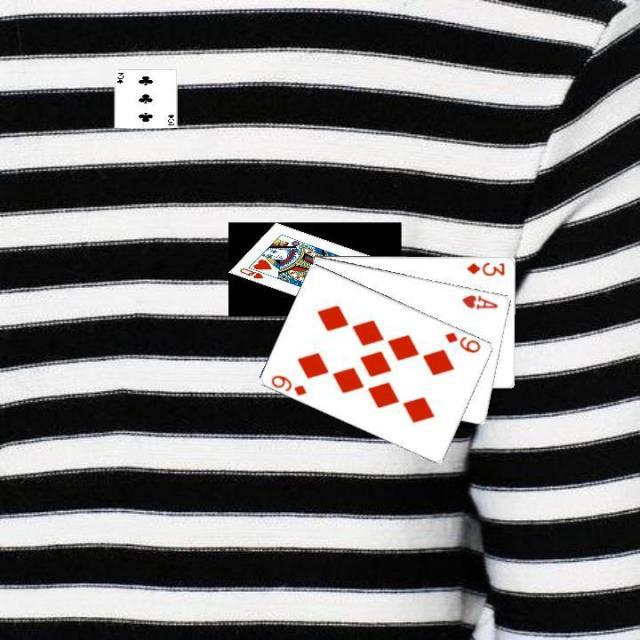3D: (463, 258, 507, 278)
9D: (441, 328, 483, 355), (268, 370, 308, 398)
AH: (458, 290, 500, 312)
